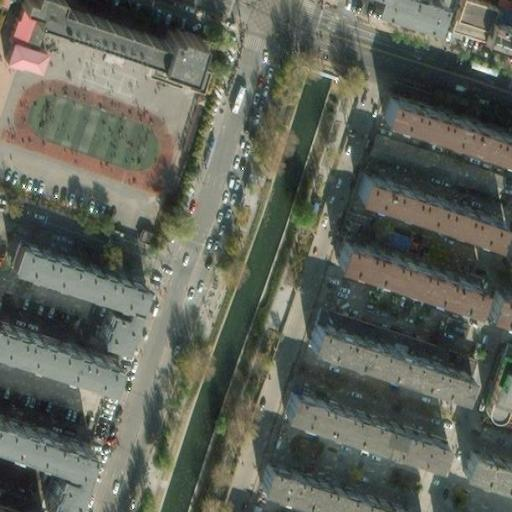building: (2, 235, 141, 345), (301, 319, 471, 399), (279, 385, 443, 461), (309, 300, 472, 372), (327, 238, 474, 310), (349, 172, 496, 241), (367, 130, 507, 199), (376, 95, 512, 164), (253, 458, 417, 512), (0, 320, 112, 385), (147, 27, 199, 81), (456, 443, 512, 487), (0, 4, 39, 65), (452, 2, 491, 44), (489, 369, 512, 410), (488, 18, 512, 52), (488, 287, 512, 320), (487, 353, 512, 384)
